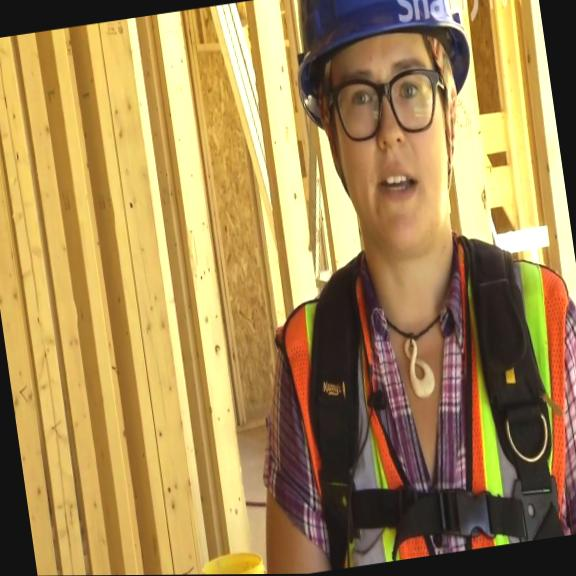safety_vest: (264, 226, 576, 574)
